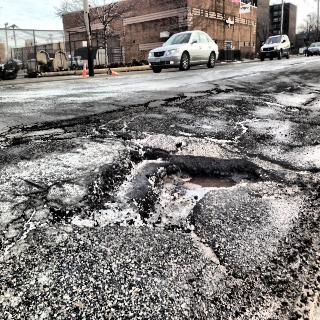pothole: (24, 114, 316, 248)
